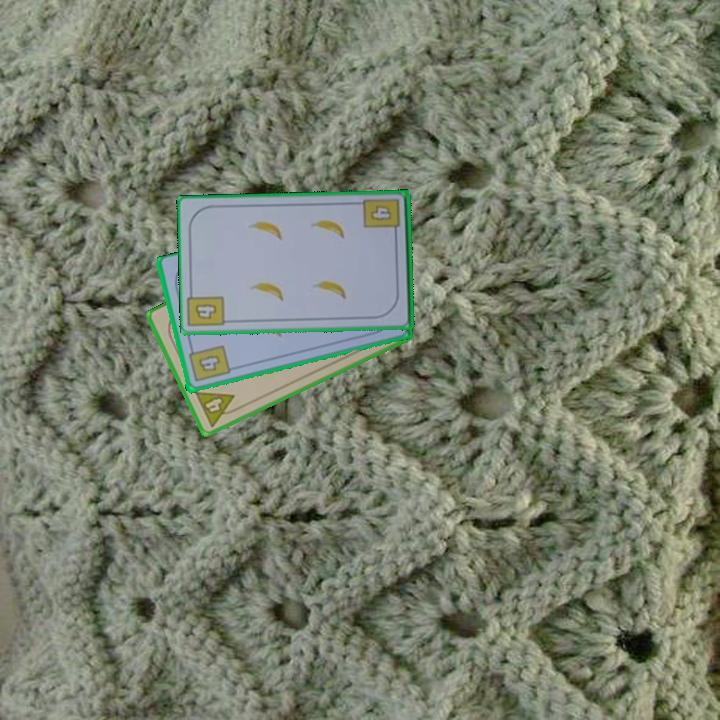4b: (185, 342, 232, 385), (361, 195, 403, 239), (191, 300, 219, 323)
4p: (191, 388, 243, 430)
